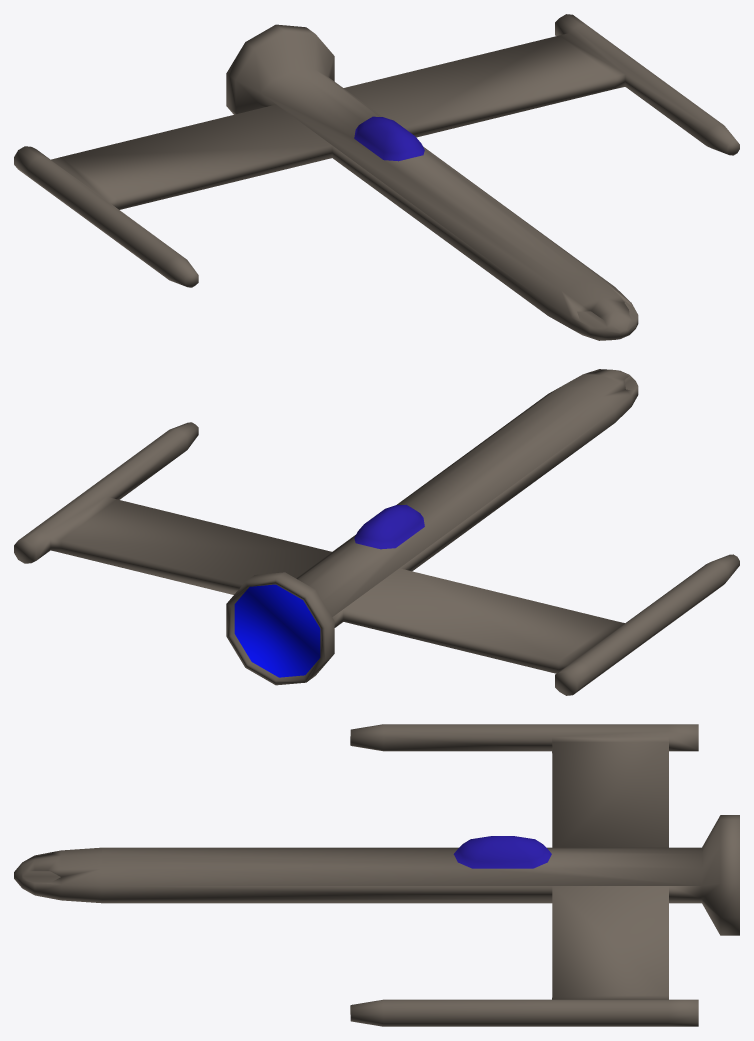
Rendered from MartianSpaceFighterVersion5.obj.
The picture shows the model from 3 angles, top to bottom: view 1: azimuth 30°, elevation 25°; view 2: azimuth 150°, elevation 25°; view 3: azimuth 270°, elevation 25°; orthographic projection. The views are drawn at different scales.
Visible parts, largest first — view 1: Cylinder.001_Cylinder.008; view 2: Cylinder.001_Cylinder.008; view 3: Cylinder.001_Cylinder.008.
Part boxes in pixels (left/top/right/bottom): Cylinder.001_Cylinder.008: left=14, top=14, right=739, bottom=340; Cylinder.001_Cylinder.008: left=14, top=369, right=739, bottom=695; Cylinder.001_Cylinder.008: left=14, top=724, right=739, bottom=1026.
Bounding box in the file's own units: 20.54 × 3.7 × 21.99.
